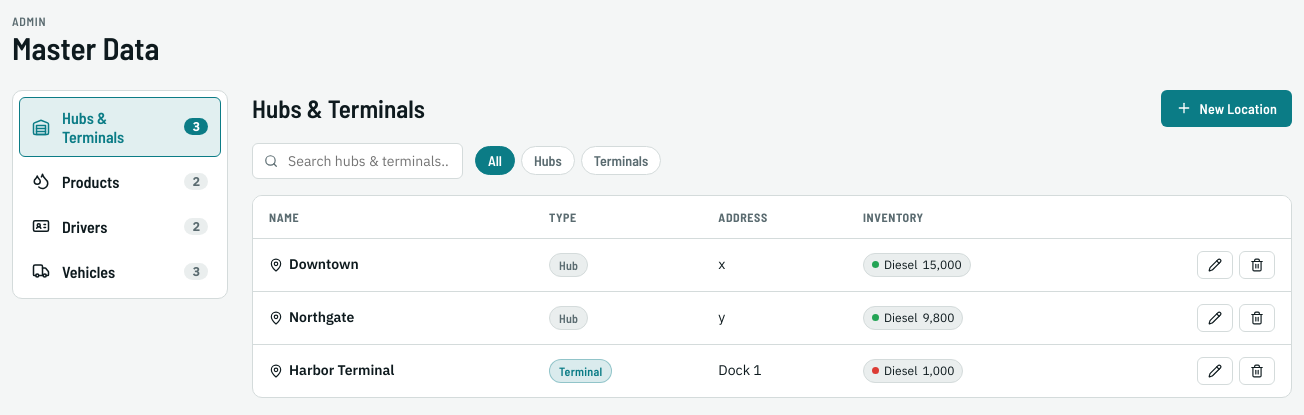
Test: MasterDataPage › filters drivers by status chips
The width and height of the screenshot is (1304, 415).
expect the text "Downtown" is shown: met, box top-left (269, 255), bottom-right (359, 273)
Click the button "Drivers 2".
click(120, 226)  # box top-left (19, 206), bottom-right (221, 247)
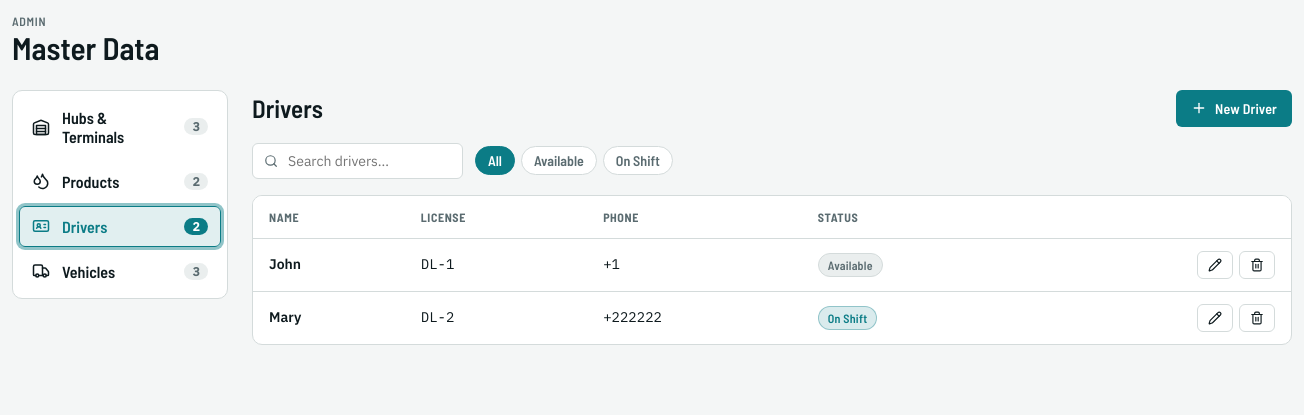
expect the text "John" is shown: met, box top-left (269, 255), bottom-right (301, 273)
Click the tab "On shift".
click(638, 161)  # box top-left (603, 146), bottom-right (673, 175)
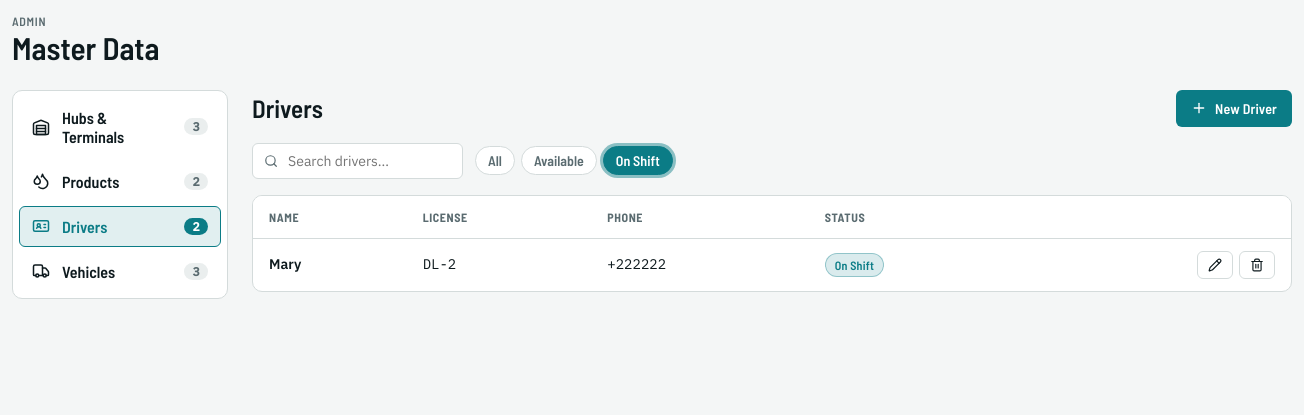
expect the text "Mary" is shown: met, box top-left (269, 255), bottom-right (301, 273)
expect the text "John" is gone: met
